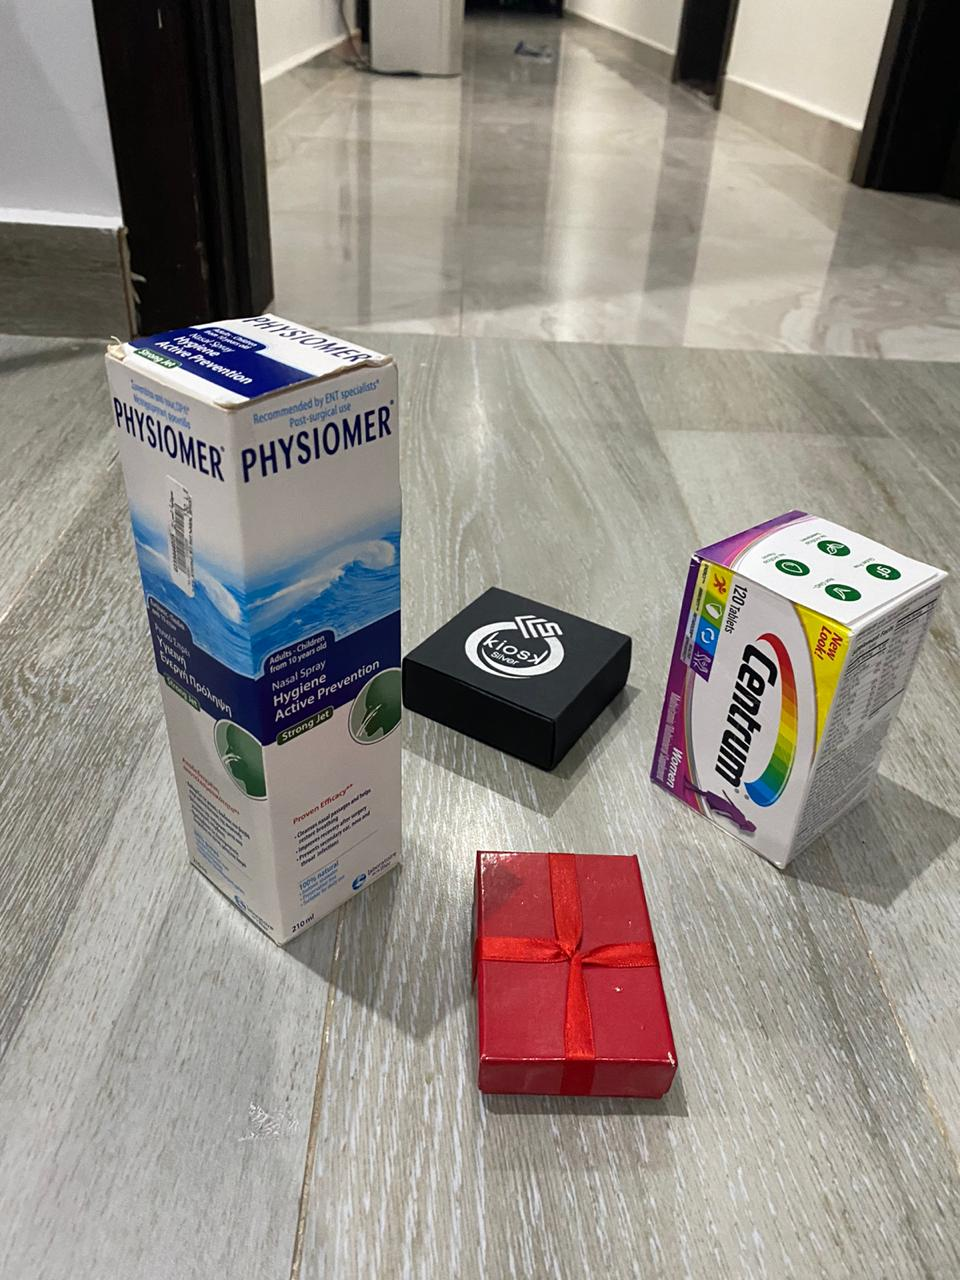Black Box: (468, 850, 683, 1105)
Centrum: (651, 508, 950, 875)
Physiomer: (102, 308, 416, 955)
Red Box: (406, 583, 639, 782)
